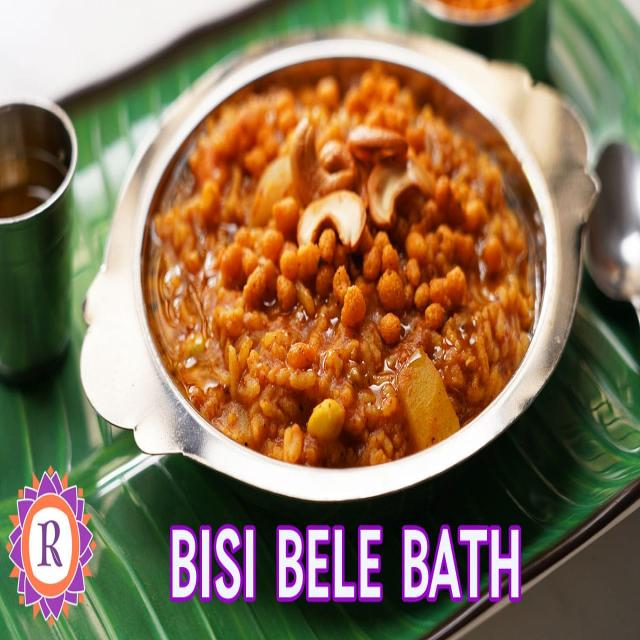bisibele bath: (81, 11, 607, 512)
